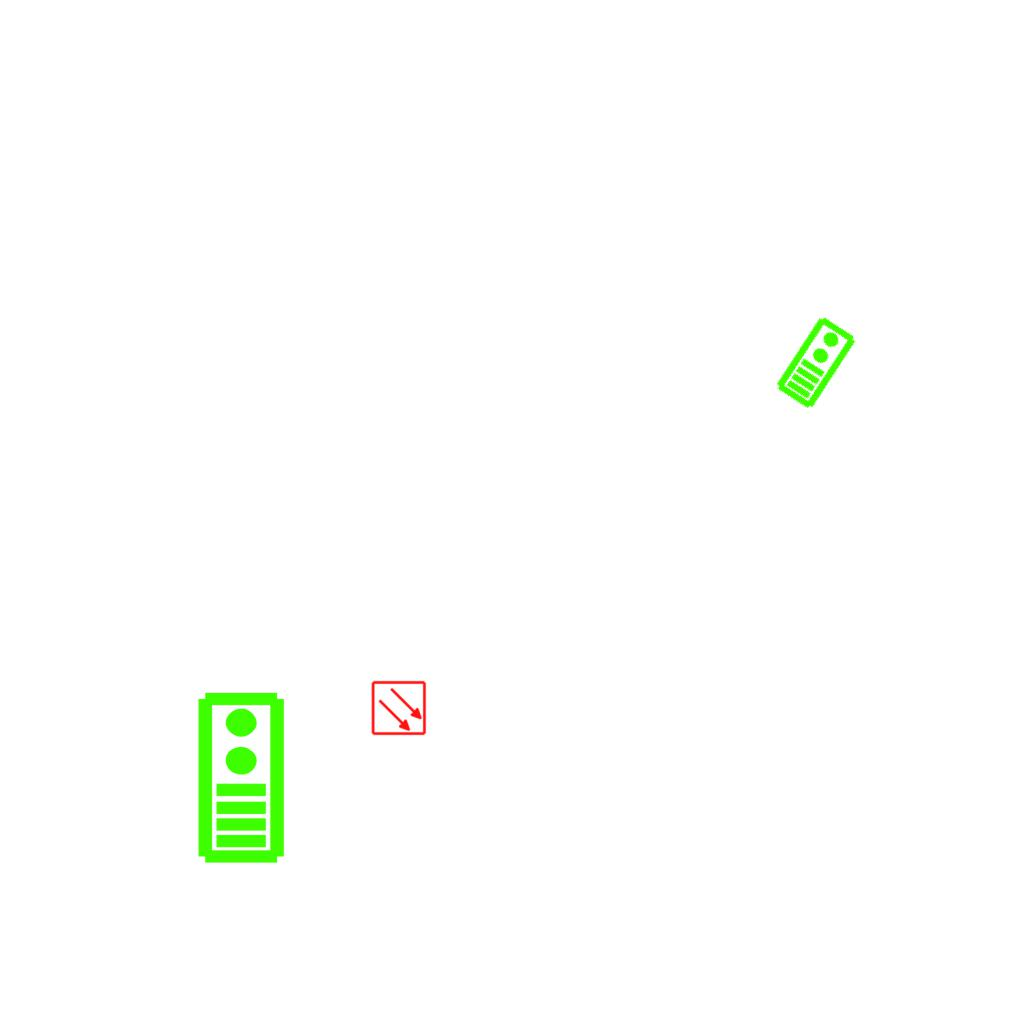Gegensprechanlage_mit_Video: (192, 689, 287, 865), (771, 312, 860, 412)
RMO_Rauchmelder_optischer: (371, 680, 427, 736)
